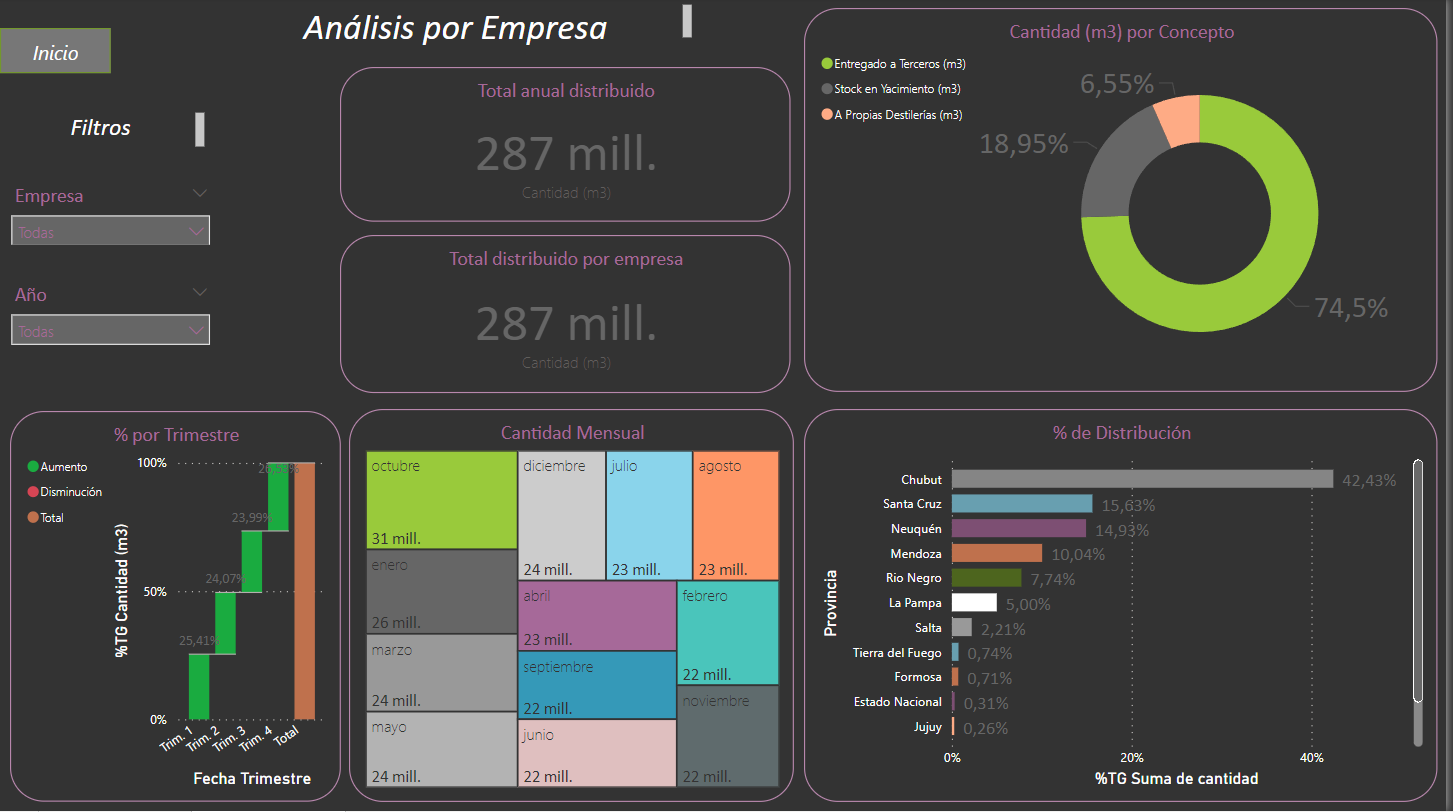

This screenshot's page, from the dashboard's own definition file:
{"tool":"powerbi","page":{"name":"Analisis por Empresa","canvas":[1280,720],"ordinal":3},"visuals":[{"type":"textbox","box":[0,96.6,186.1,45.7],"z":0},{"type":"slicer","fields":{"Values":["Tabla Puente.Año"]},"box":[0,246.6,196.5,65.8],"z":1000},{"type":"slicer","fields":{"Values":["Distribucion Petroleo.Empresa"]},"box":[0,158.5,196.5,60.3],"z":2000},{"type":"waterfallChart","title":"% por Trimestre","fields":{"Y":["Divide(Distribucion Petroleo.Cantidad (m3), ScopedEval(Distribucion Petroleo.Cantidad (m3), []))"],"Category":["Tabla Puente.fecha_data.Variación.Jerarquía de fechas.Trimestre"]},"box":[8.8,365.7,292.8,346.3],"z":3000},{"type":"donutChart","fields":{"Category":["Distribucion Petroleo.Concepto"],"Y":["Distribucion Petroleo.Cantidad (m3)"]},"box":[712,8.8,561.2,340.4],"z":4000},{"type":"card","title":"Total distribuido por empresa ","fields":{"Values":["Distribucion Petroleo.Cantidad (m3)"]},"box":[301.2,209.9,398.6,139.6],"z":5000},{"type":"card","title":"Total anual distribuido","fields":{"Values":["Distribucion Petroleo.Cantidad (m3)"]},"box":[301.2,61.5,398.6,137],"z":6000},{"type":"textbox","box":[196.5,1,421.4,50.1],"z":7000},{"type":"barChart","title":"% de Distribución","fields":{"Category":["Distribucion Petroleo.Provincia"],"Y":["Divide(Sum(Distribucion Petroleo.cantidad), ScopedEval(Sum(Distribucion Petroleo.cantidad), []))"]},"box":[712,363.8,561.2,348.2],"z":8000},{"type":"treemap","title":"Cantidad Mensual","fields":{"Group":["Distribucion Petroleo.Nombre Mes"],"Values":["Distribucion Petroleo.Cantidad (m3)"]},"box":[309.1,364.4,394.2,347.7],"z":9000},{"type":"shape","box":[0,26.5,98.2,40.3],"z":10000}]}

Visuals, with their boxes in screenshot pixels (x1, y1, x2, y2), scaled from the page's 1280x720 canvas onto the 1453x812 screenshot:
textbox: BBox(0, 109, 211, 160)
slicer - Tabla Puente.Año: BBox(0, 278, 223, 352)
slicer - Distribucion Petroleo.Empresa: BBox(0, 179, 223, 247)
"% por Trimestre" waterfallChart: BBox(10, 412, 342, 803)
donutChart - Distribucion Petroleo.Concepto x Distribucion Petroleo.Cantidad (m3): BBox(808, 10, 1445, 394)
"Total distribuido por empresa " card: BBox(342, 237, 794, 394)
"Total anual distribuido" card: BBox(342, 69, 794, 224)
textbox: BBox(223, 1, 701, 58)
"% de Distribución" barChart: BBox(808, 410, 1445, 803)
"Cantidad Mensual" treemap: BBox(351, 411, 798, 803)
shape: BBox(0, 30, 111, 75)
